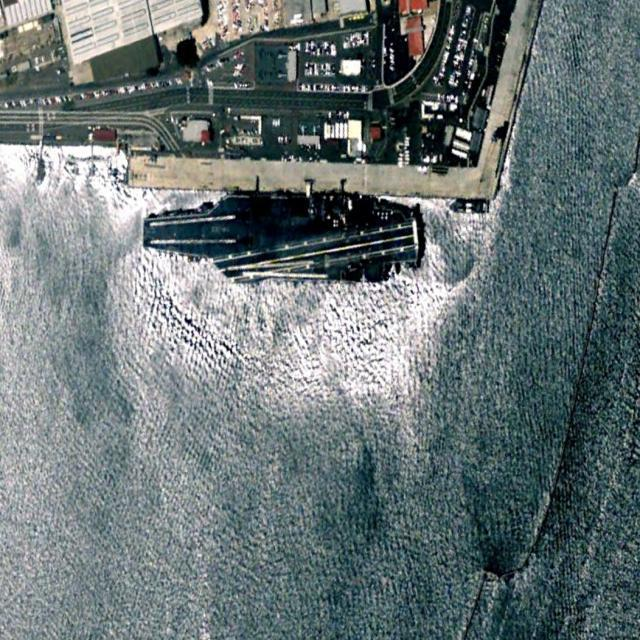Aircraft Carrier: (142, 193, 421, 284)
